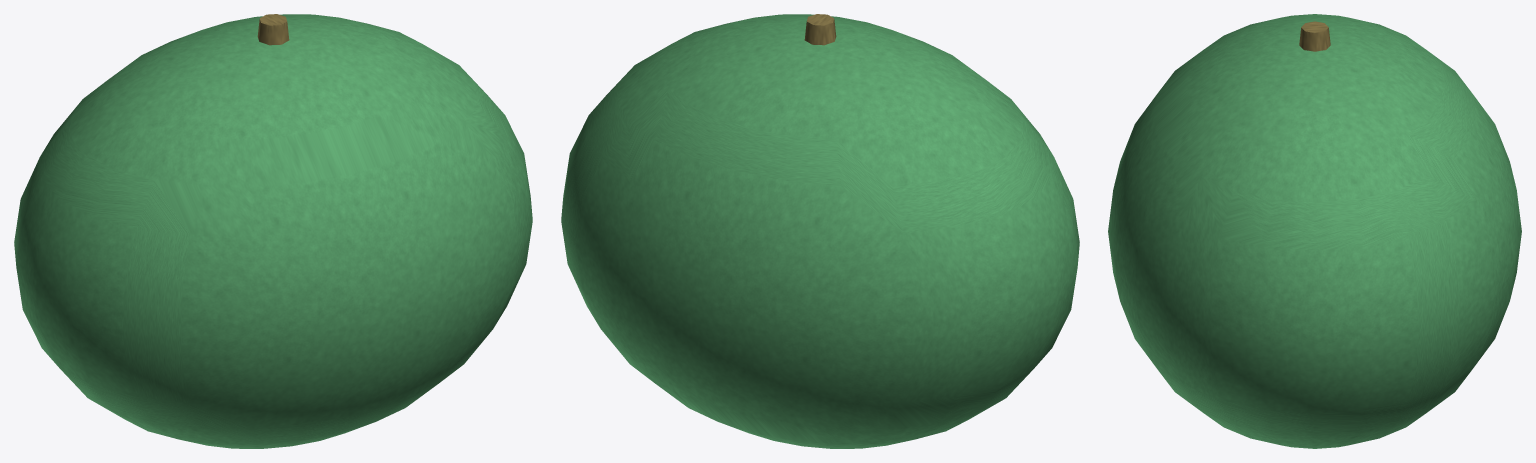
The model's file is melon.glb.
3 views of the same model, side by side, from view 1: azimuth 30°, elevation 25°; view 2: azimuth 150°, elevation 25°; view 3: azimuth 270°, elevation 25° (orthographic). The views are drawn at different scales.
Visible parts, largest first — view 1: melon_body; view 2: melon_body; view 3: melon_body.
Boxes of the visible parts, box(x1,y1,x2,y2) form: melon_body: box(14, 14, 532, 448); melon_body: box(561, 14, 1079, 448); melon_body: box(1108, 14, 1521, 448).
Bounding box in the file's own units: 0.575 × 0.47 × 0.45.
Materials: 2 (2 with a texture image).
